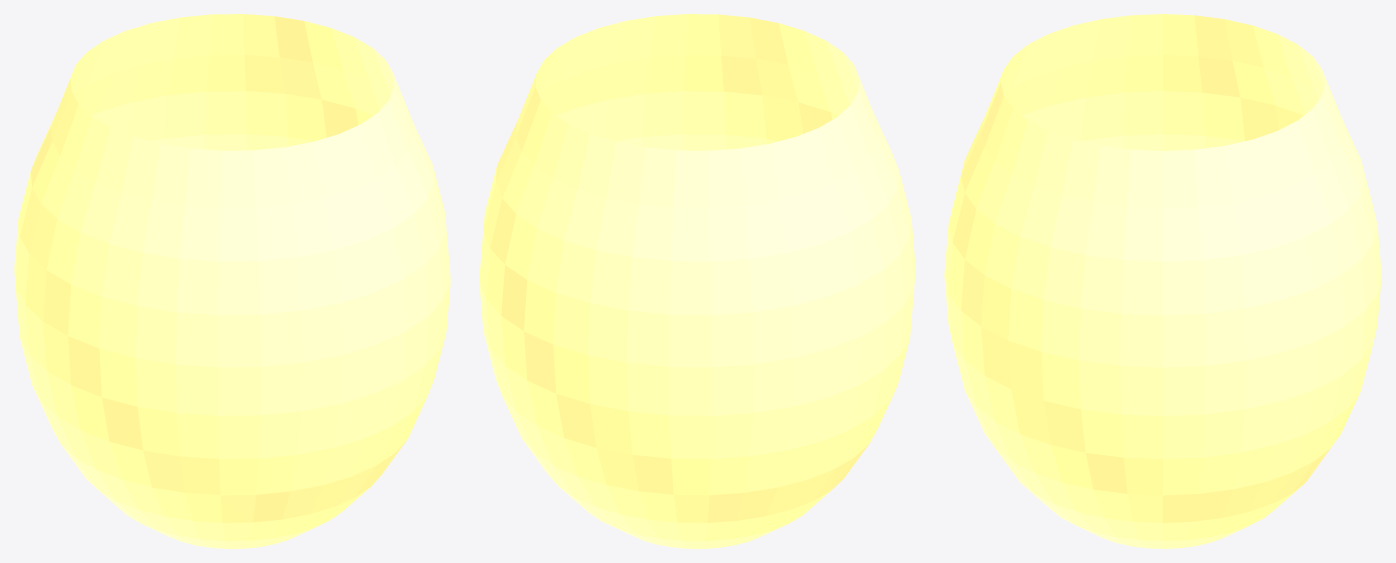
File: warehouse6_lamp_emitter.dae
3 renders of one model, left to right at view 1: azimuth 30°, elevation 25°; view 2: azimuth 150°, elevation 25°; view 3: azimuth 270°, elevation 25°, orthographic.
Visible parts, largest first — view 1: warehouse6_part_20_02_single_lamp; view 2: warehouse6_part_20_02_single_lamp; view 3: warehouse6_part_20_02_single_lamp.
Boxes of the visible parts, x1=… form: warehouse6_part_20_02_single_lamp: x1=14, y1=14, x2=450, y2=548; warehouse6_part_20_02_single_lamp: x1=479, y1=14, x2=915, y2=548; warehouse6_part_20_02_single_lamp: x1=944, y1=14, x2=1381, y2=548.
Bounding box in the file's own units: 0.1405 × 0.1405 × 0.1597.
